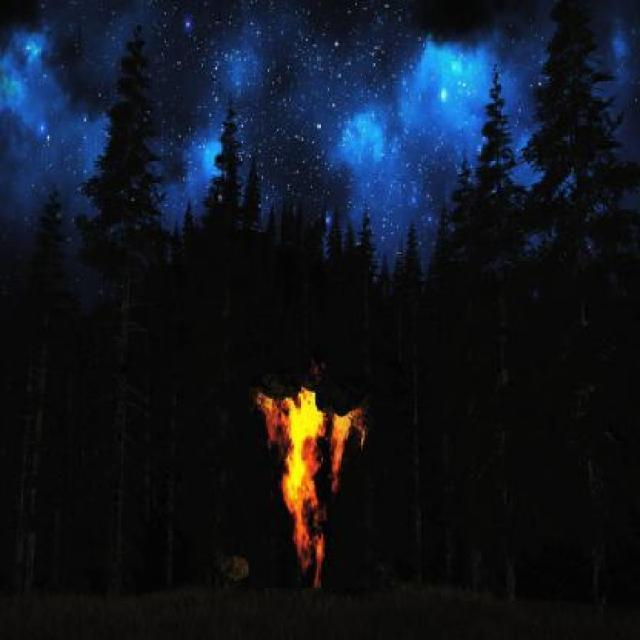Fire: (256, 387, 366, 587)
